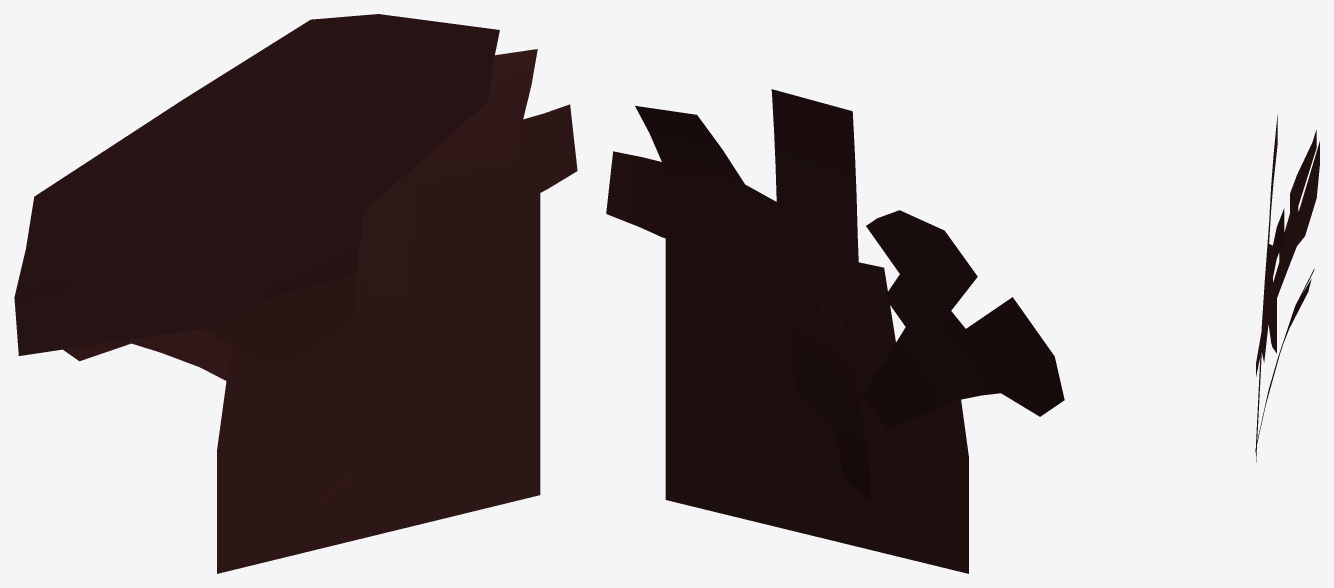
Rendered from SM_ocean_scatterPlant_01.fbx.
3 views of the same model, side by side, from view 1: azimuth 30°, elevation 25°; view 2: azimuth 150°, elevation 25°; view 3: azimuth 270°, elevation 25° (orthographic). The views are drawn at different scales.
Visible parts, largest first — view 1: SM_ocean_scatterPlant_01_LOD0; view 2: SM_ocean_scatterPlant_01_LOD0; view 3: SM_ocean_scatterPlant_01_LOD0.
Boxes of the visible parts, bbox=[...] form: SM_ocean_scatterPlant_01_LOD0: bbox=[14, 14, 577, 573]; SM_ocean_scatterPlant_01_LOD0: bbox=[606, 89, 1064, 573]; SM_ocean_scatterPlant_01_LOD0: bbox=[1255, 114, 1319, 462].
Size of what is drawn, in the model's own units: 11.77 by 2.27 by 10.65.
